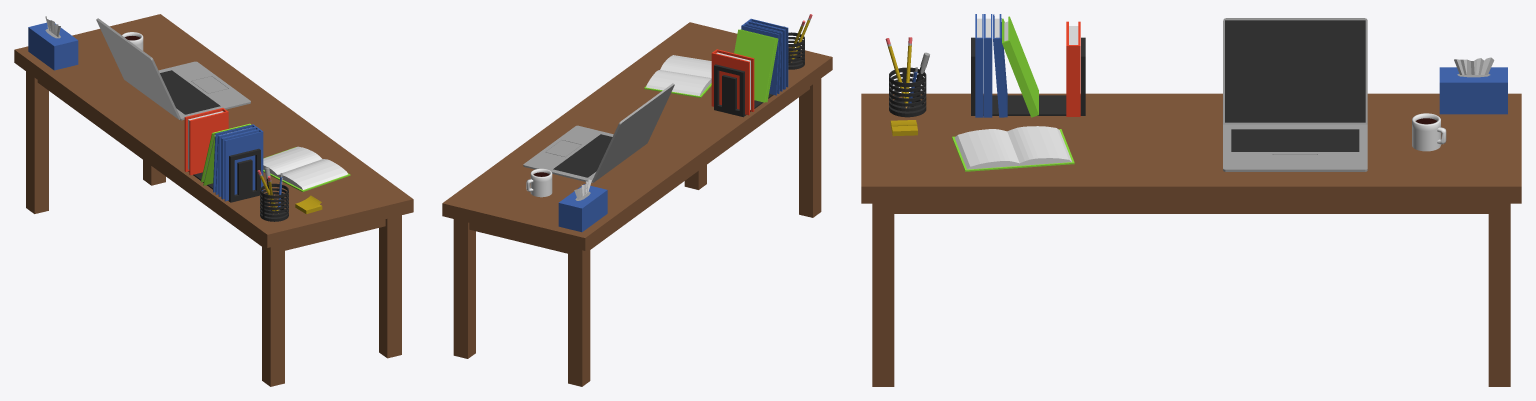
The model's file is Desk.fbx.
3 views of the same model, side by side, from view 1: azimuth 30°, elevation 25°; view 2: azimuth 150°, elevation 25°; view 3: azimuth 270°, elevation 25° (orthographic). The views are drawn at different scales.
Parts seen in each view (by area): view 1: Desk; view 2: Desk; view 3: Desk.
Part boxes in pixels (box(x1,y1,x2,y2)): Desk: box(14, 14, 413, 386); Desk: box(442, 14, 832, 386); Desk: box(861, 14, 1521, 386).
Bounding box in the file's own units: 600 × 200 × 296.
